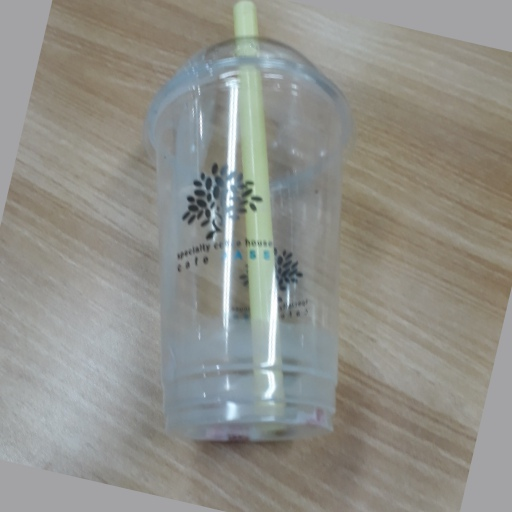Plastic_2: (142, 1, 352, 448)
